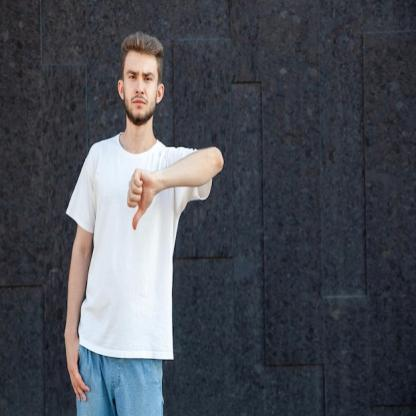thumb_down: (125, 163, 157, 234)
